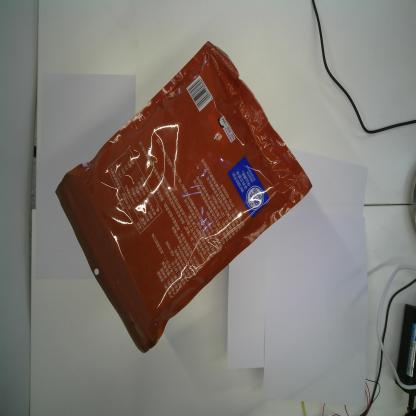Dried Food: (53, 39, 313, 354)
